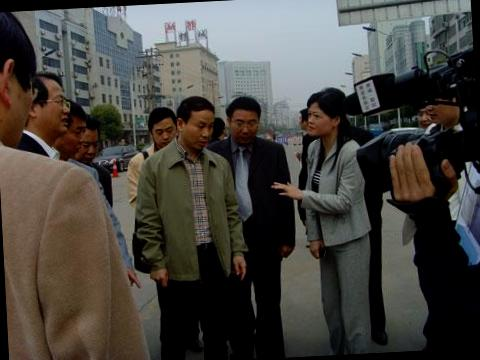no_helmet: (0, 14, 46, 148), (24, 69, 73, 140), (300, 84, 351, 142), (174, 93, 218, 149), (224, 92, 266, 144), (58, 99, 90, 159), (422, 85, 466, 127), (144, 104, 180, 154), (74, 116, 104, 162)
